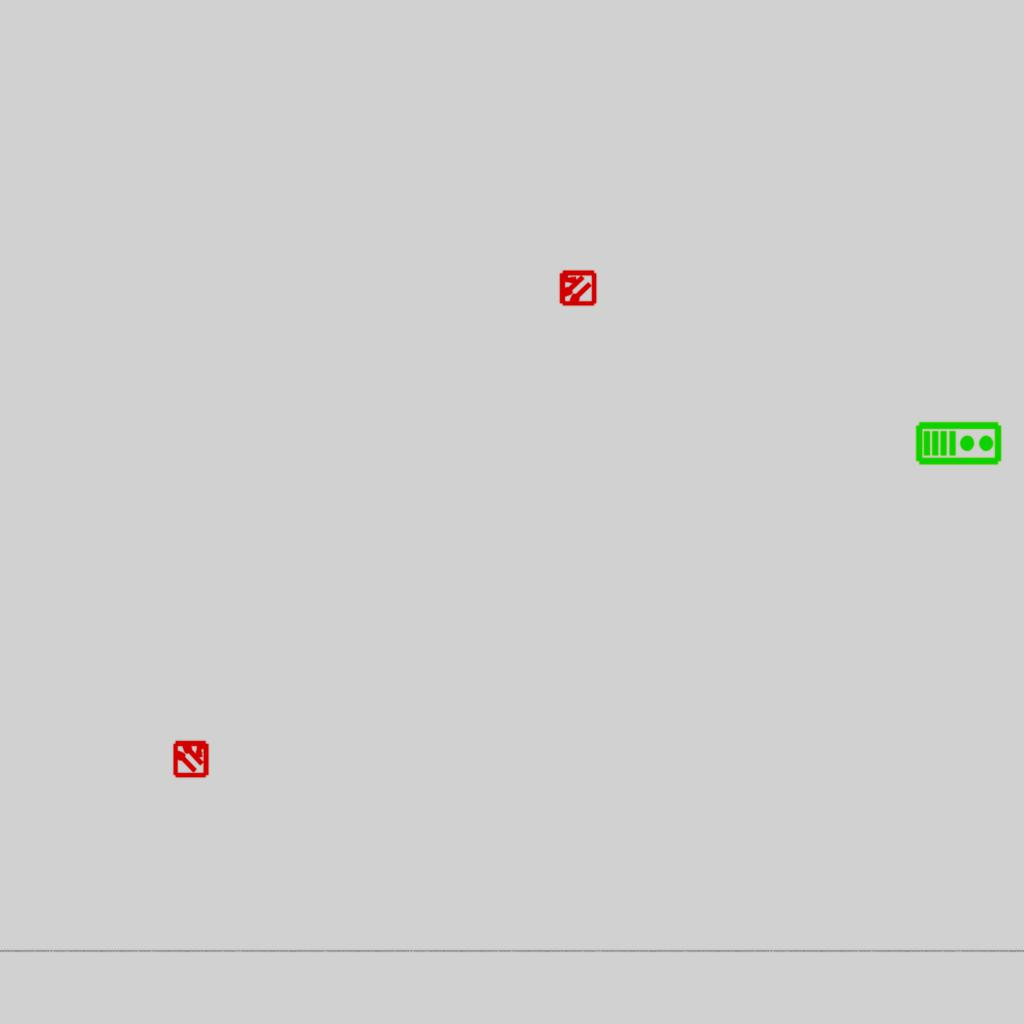Gegensprechanlage_mit_Video: (915, 419, 1003, 466)
OT_Multisensormelder_(Kombination_RMO_WMD): (549, 260, 605, 316), (163, 730, 219, 786)
